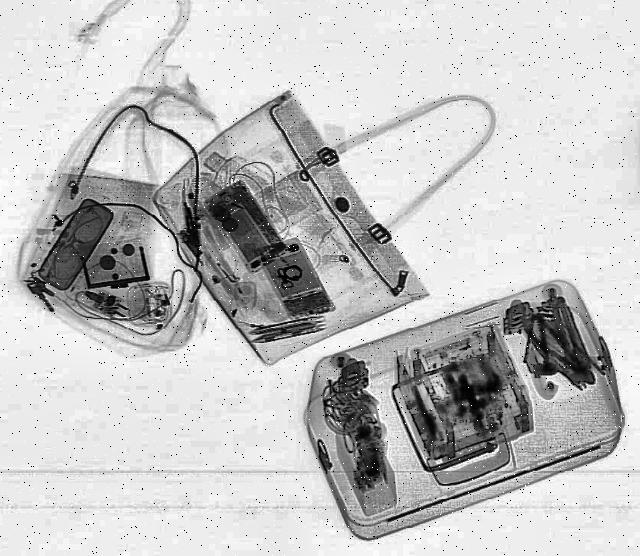Pliers: (514, 310, 608, 392)
